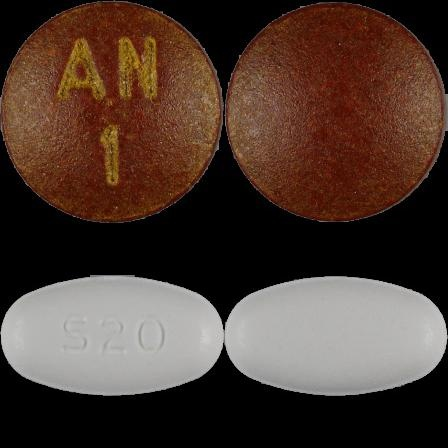33261-132: (0, 0, 224, 224)
